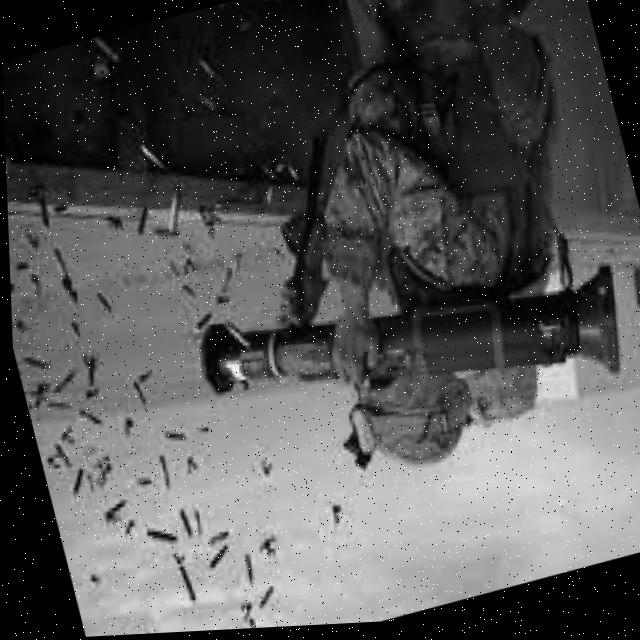rocket: (165, 202, 640, 492)
